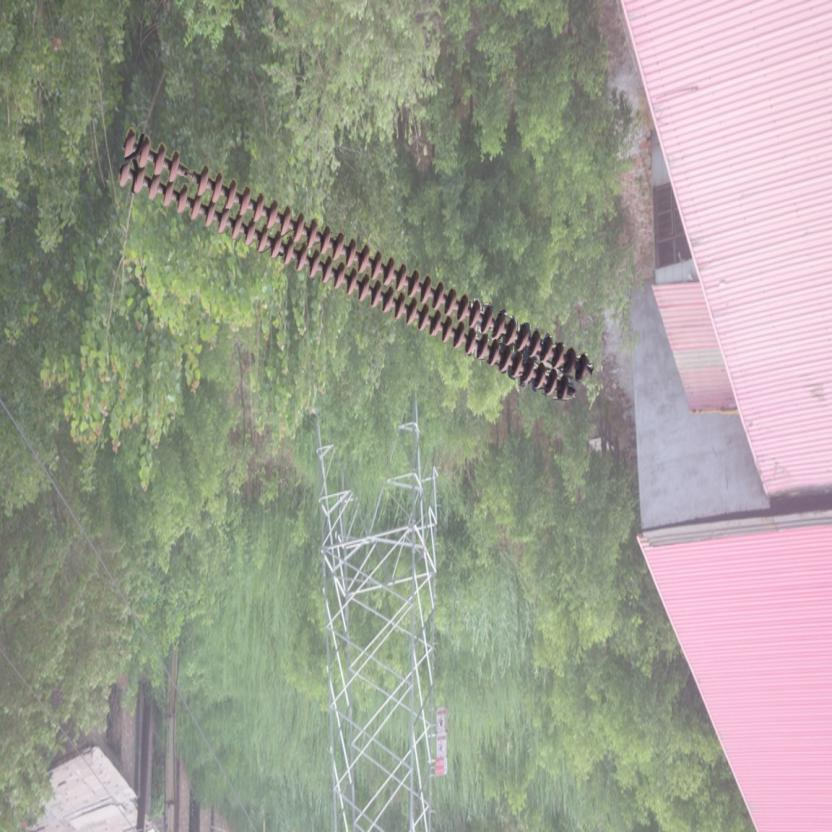defect: (166, 150, 214, 200)
